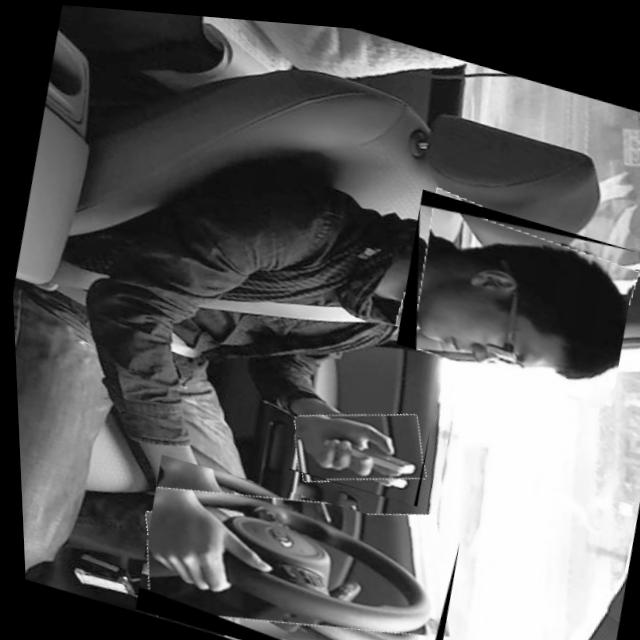phone: (280, 384, 428, 500)
wheel: (122, 449, 458, 640), (386, 179, 640, 398)
